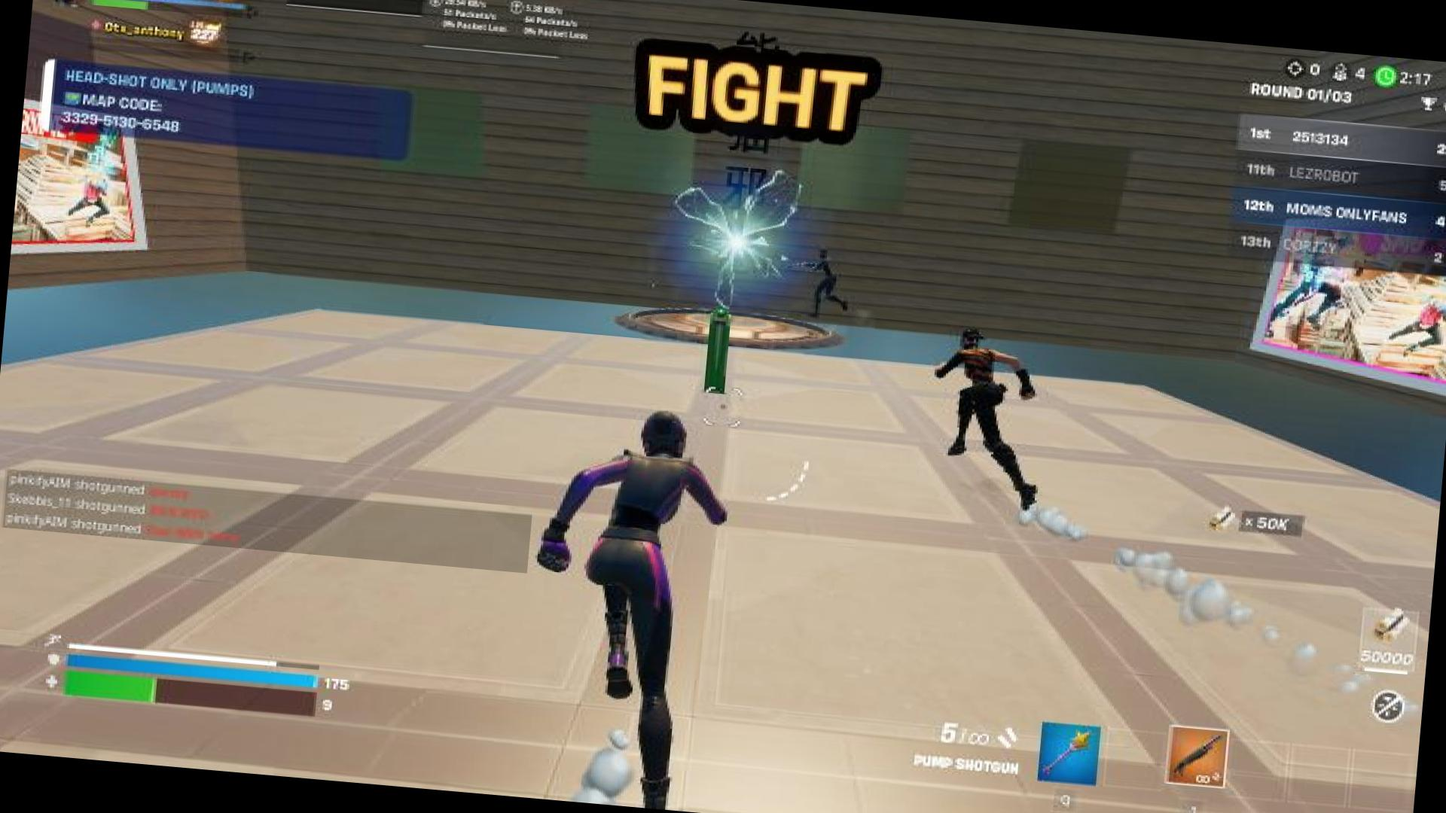player: (914, 315, 1066, 522), (791, 235, 875, 347)
